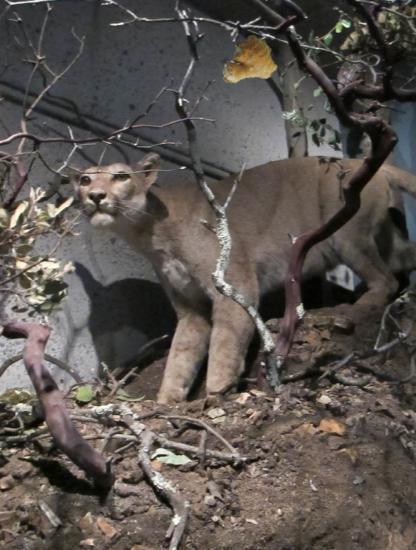Ginger: (220, 36, 279, 95)
